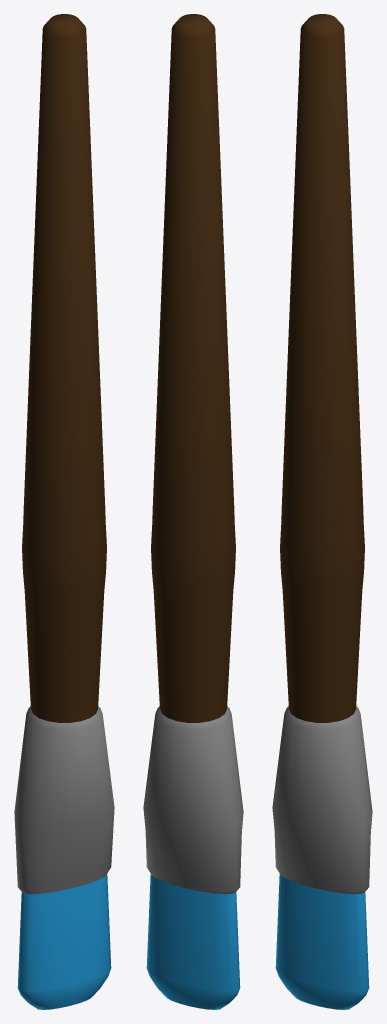
Rendered from Brush.fbx.
3 views of the same model, side by side, from view 1: azimuth 30°, elevation 25°; view 2: azimuth 150°, elevation 25°; view 3: azimuth 330°, elevation 25° (orthographic).
Parts seen in each view (by area): view 1: Brush; view 2: Brush; view 3: Brush.
Boxes of the visible parts, x1,y1,x2,y2 form: Brush: (14,14,114,1009); Brush: (143,14,243,1009); Brush: (272,14,372,1009).
Bounding box in the file's own units: 39.39 × 409 × 32.06.
